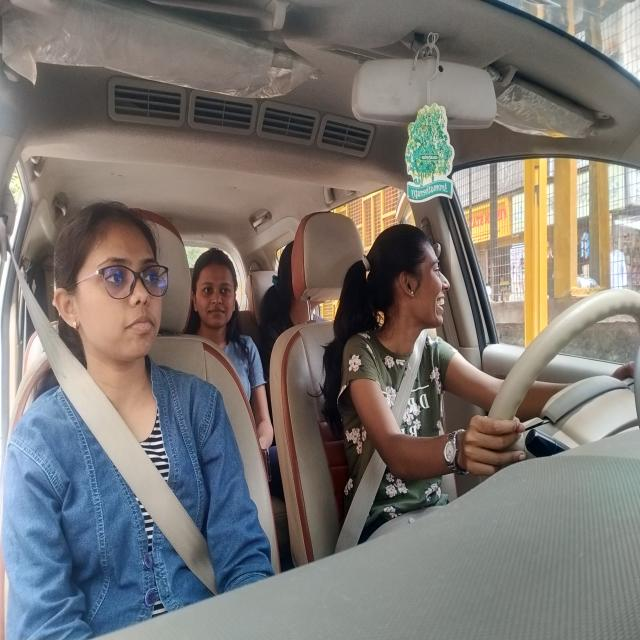LeftRight: (371, 216, 454, 336)
person: (56, 198, 171, 364), (192, 250, 238, 327)
